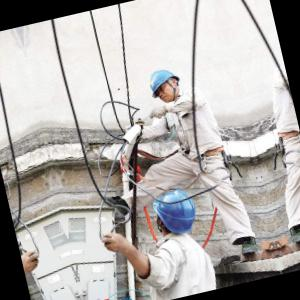helmet: (146, 182, 208, 242), (140, 60, 190, 110)
